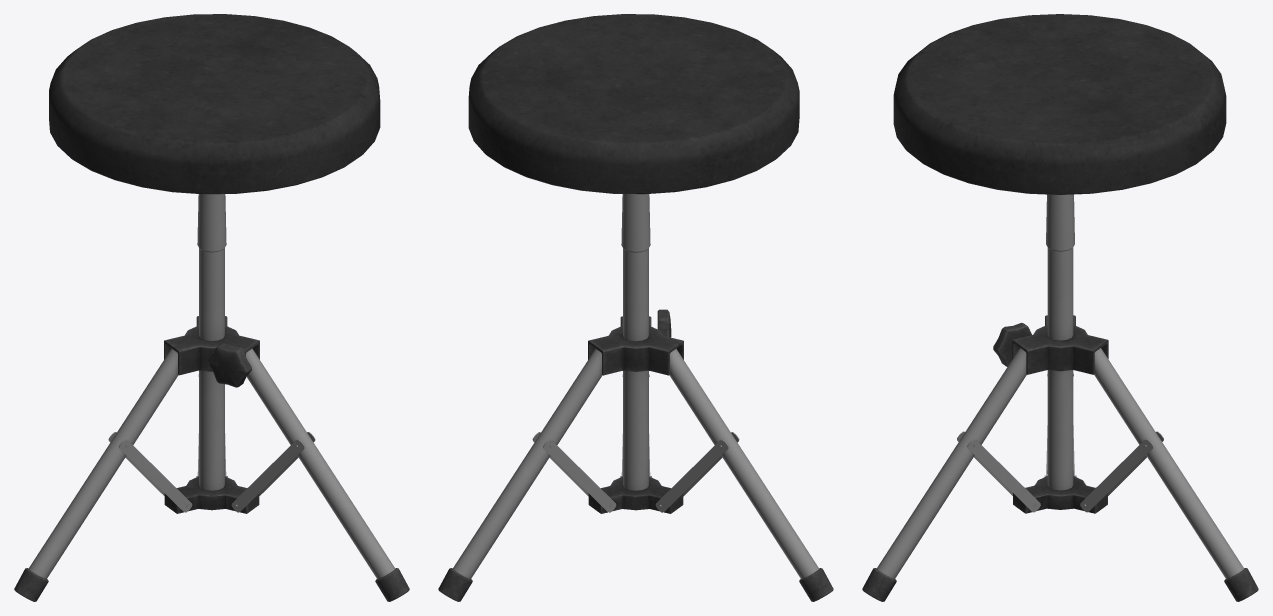
Rendered from SM_Drum_Stool_01.fbx.
3 views of the same model, side by side, from view 1: azimuth 30°, elevation 25°; view 2: azimuth 150°, elevation 25°; view 3: azimuth 270°, elevation 25° (orthographic).
Visible parts, largest first — view 1: SM_Drum_Stool_01_LOD0; view 2: SM_Drum_Stool_01_LOD0; view 3: SM_Drum_Stool_01_LOD0.
Boxes of the visible parts, bbox=[...] form: SM_Drum_Stool_01_LOD0: bbox=[14, 14, 409, 601]; SM_Drum_Stool_01_LOD0: bbox=[438, 14, 833, 601]; SM_Drum_Stool_01_LOD0: bbox=[862, 14, 1258, 601].
Bounding box in the file's own units: 33.29 × 33.37 × 44.5.
1 material, 1 textured.
